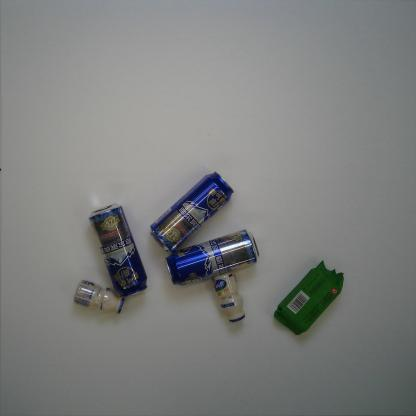Alcohol: (149, 171, 235, 253), (88, 202, 148, 298), (164, 228, 261, 286)
Dessert: (273, 259, 345, 335)
Milk: (72, 279, 126, 314), (211, 271, 246, 324)
